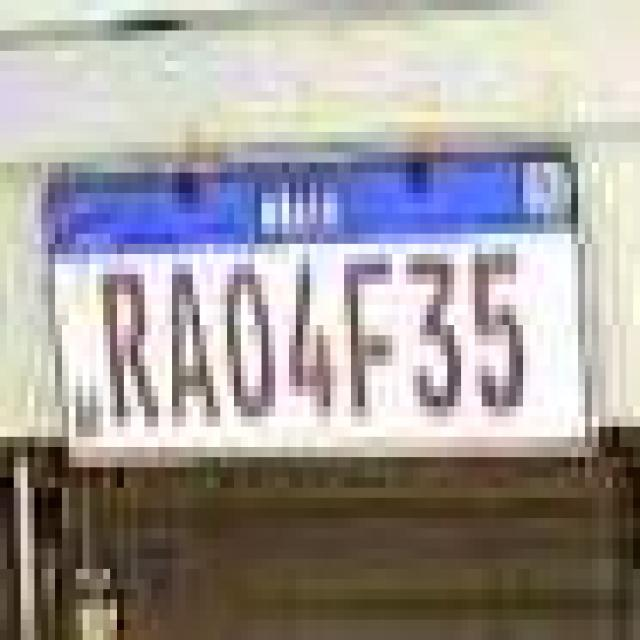3: (402, 244, 465, 419)
4: (285, 253, 337, 422)
5: (471, 240, 535, 420)
A: (161, 255, 218, 434)
F: (342, 254, 402, 421)
O: (220, 258, 282, 423)
R: (95, 258, 160, 433)
